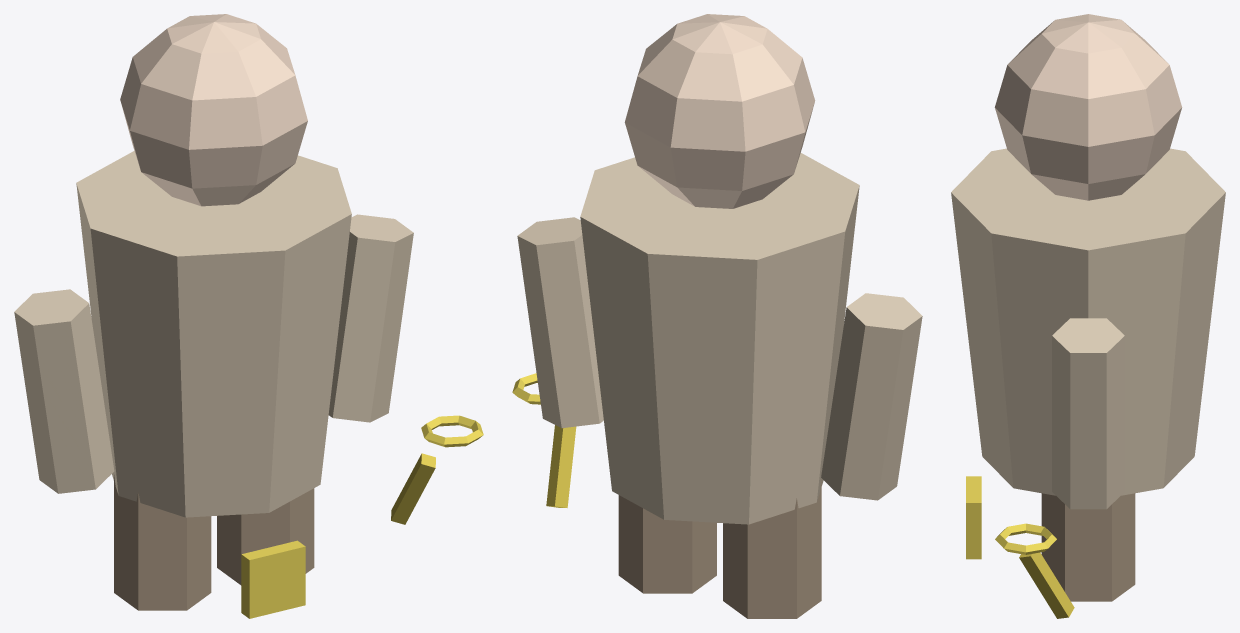
The model's file is goldsmith.glb.
3 views of the same model, side by side, from view 1: azimuth 30°, elevation 25°; view 2: azimuth 150°, elevation 25°; view 3: azimuth 270°, elevation 25° (orthographic). The views are drawn at different scales.
Parts seen in each view (by area): view 1: goldsmith; view 2: goldsmith; view 3: goldsmith.
Part boxes in pixels (<box>): goldsmith: <box>14,14,483,618</box>; goldsmith: <box>512,14,922,618</box>; goldsmith: <box>951,14,1225,618</box>.
Size of the model in its own units: 0.4534 by 0.57 by 0.264.
